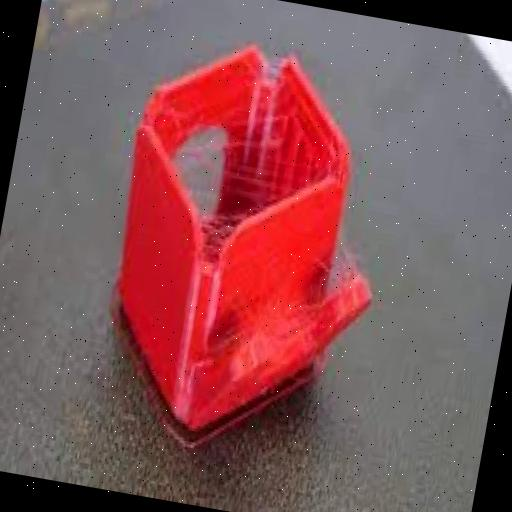stringing: (177, 62, 283, 259), (322, 236, 358, 293)
